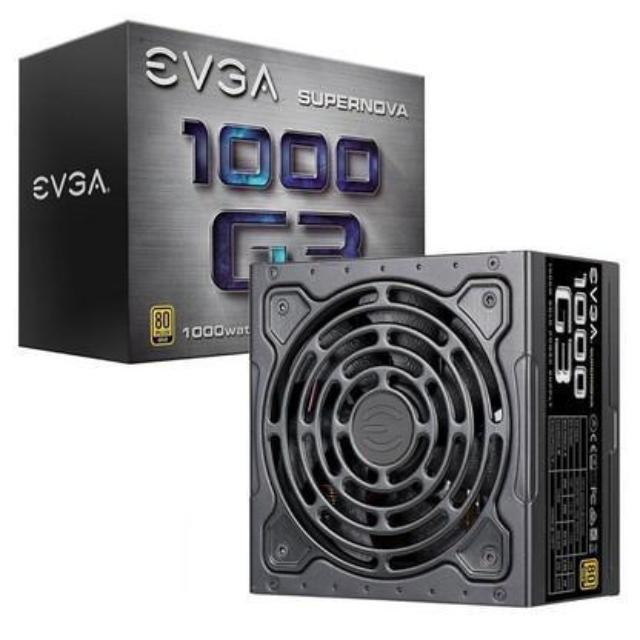PSU: (237, 254, 623, 606)
